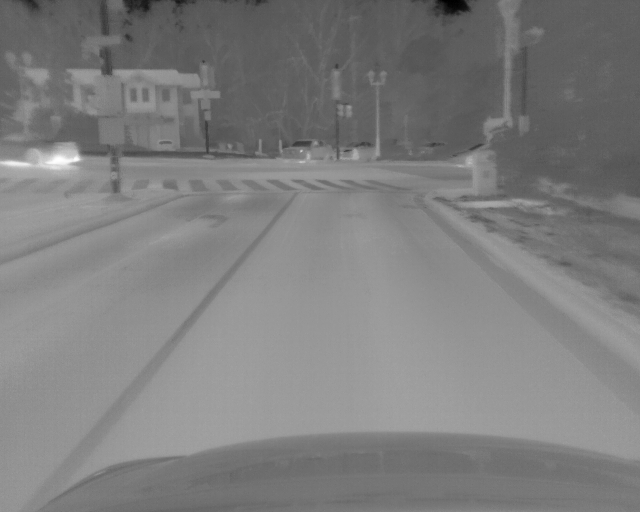car: (1, 131, 81, 166), (280, 137, 335, 164), (449, 143, 485, 168), (339, 141, 378, 162), (420, 139, 446, 153)
